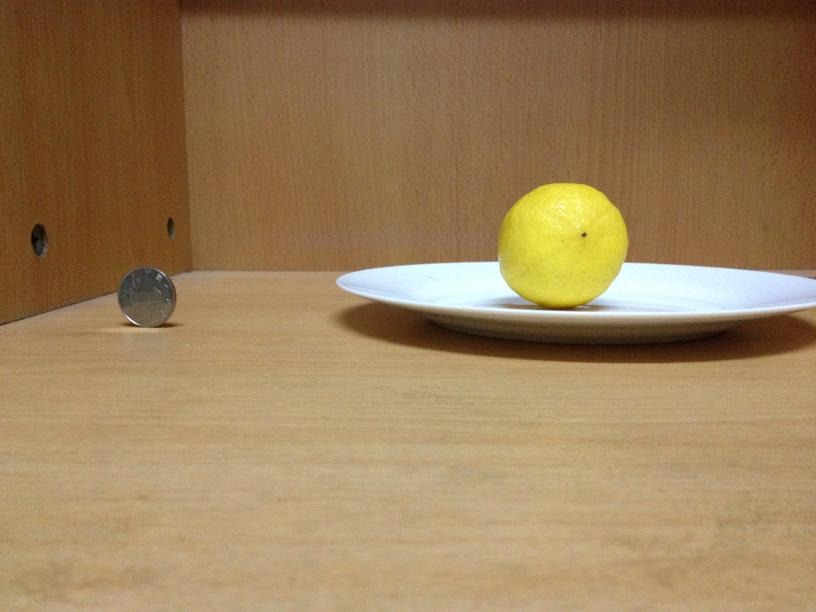coin: (119, 264, 177, 330)
lemon: (498, 181, 629, 306)
